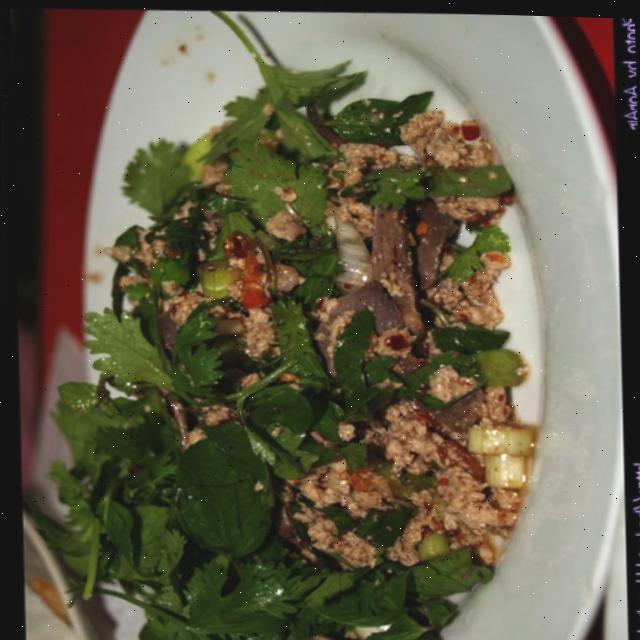鸡肉料理 含炸鸡: (53, 38, 579, 640)
